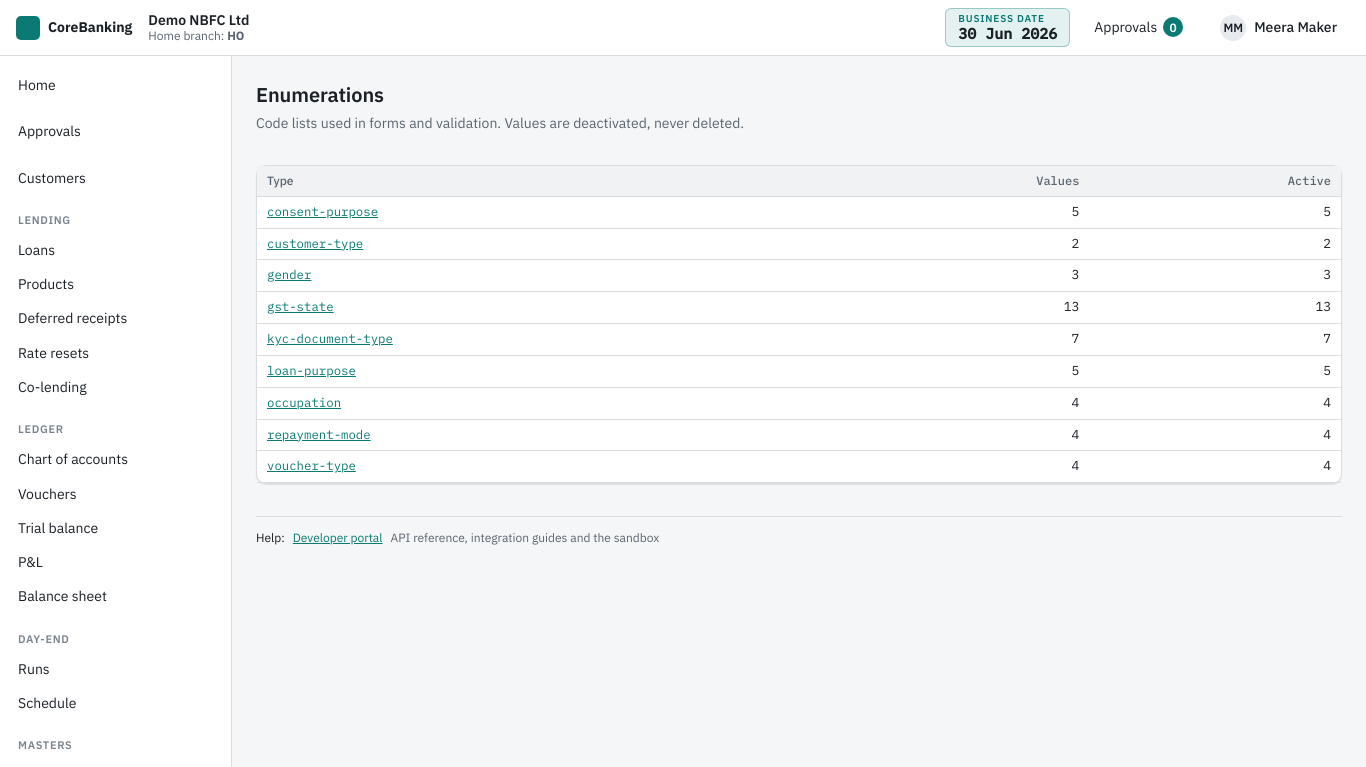
Scenario: system properties and enumerations › deactivates and adds enumeration values (never deletes)
Click the row named "Open enumeration loan-purpose" at (799, 371), box [257,355,1341,387]
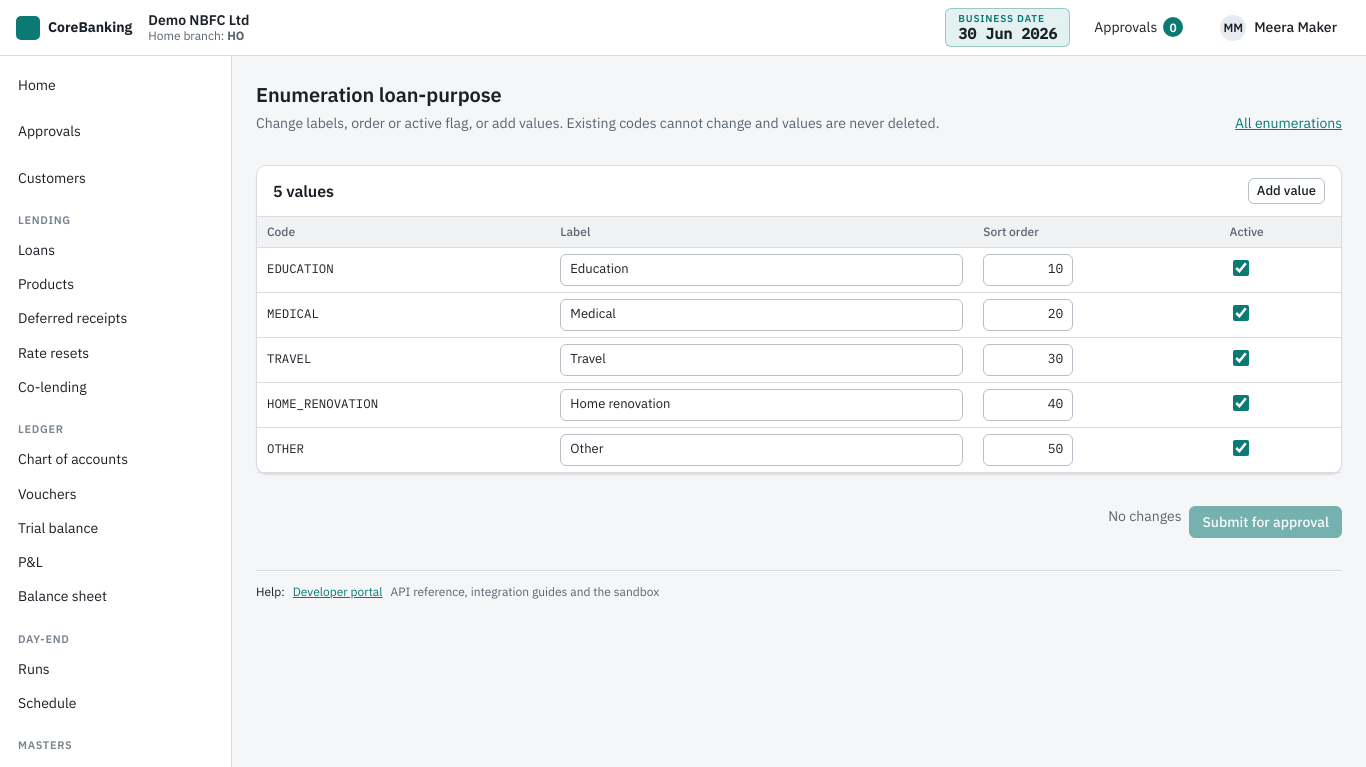
Check: the heading "Enumeration loan-purpose" is shown, box [256,81,502,108]
Check: the button "Submit for approval" is disabled, box [1190,506,1342,538]
Click the checkbox named "Active: TRAVEL" in the row of "TRAVEL" at (1242, 358), box [1234,350,1250,366]
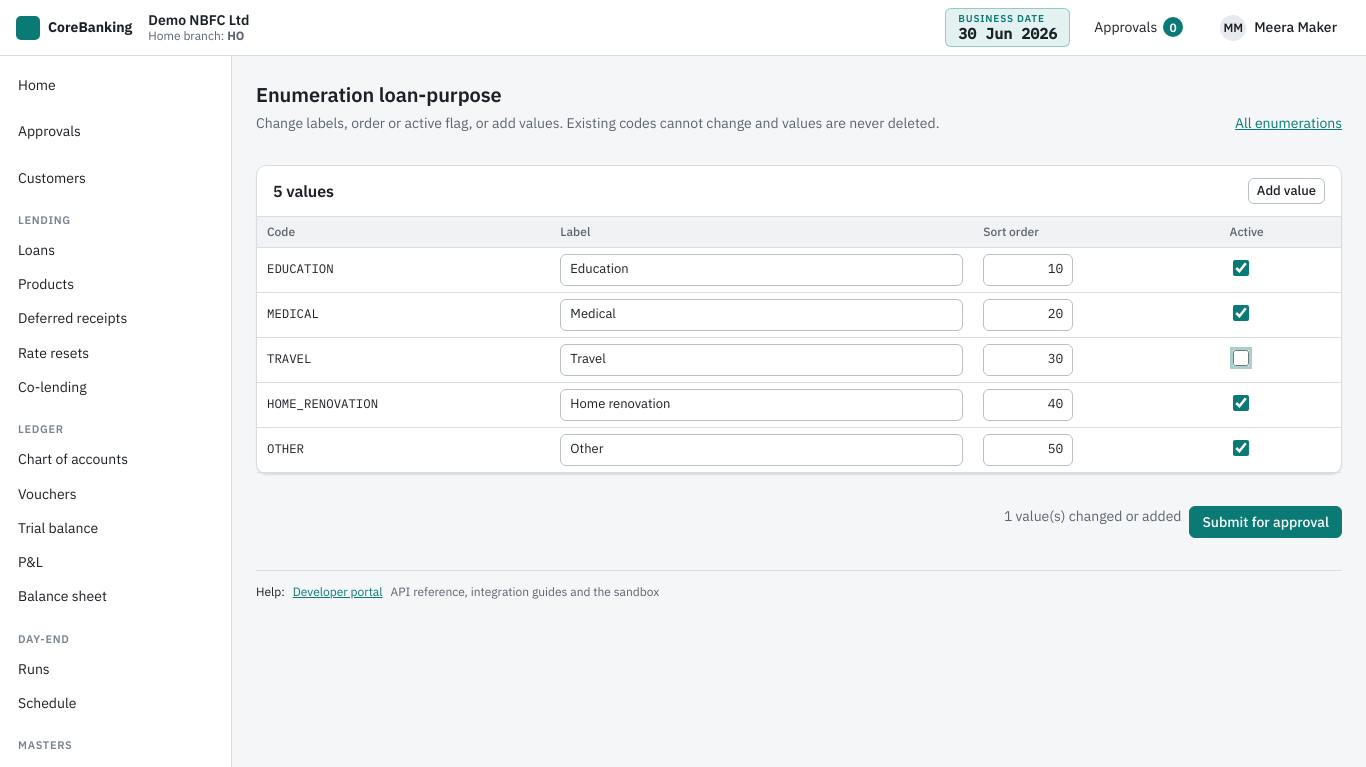
Click the button "Add value" at (1286, 191), box [1248,178,1325,204]
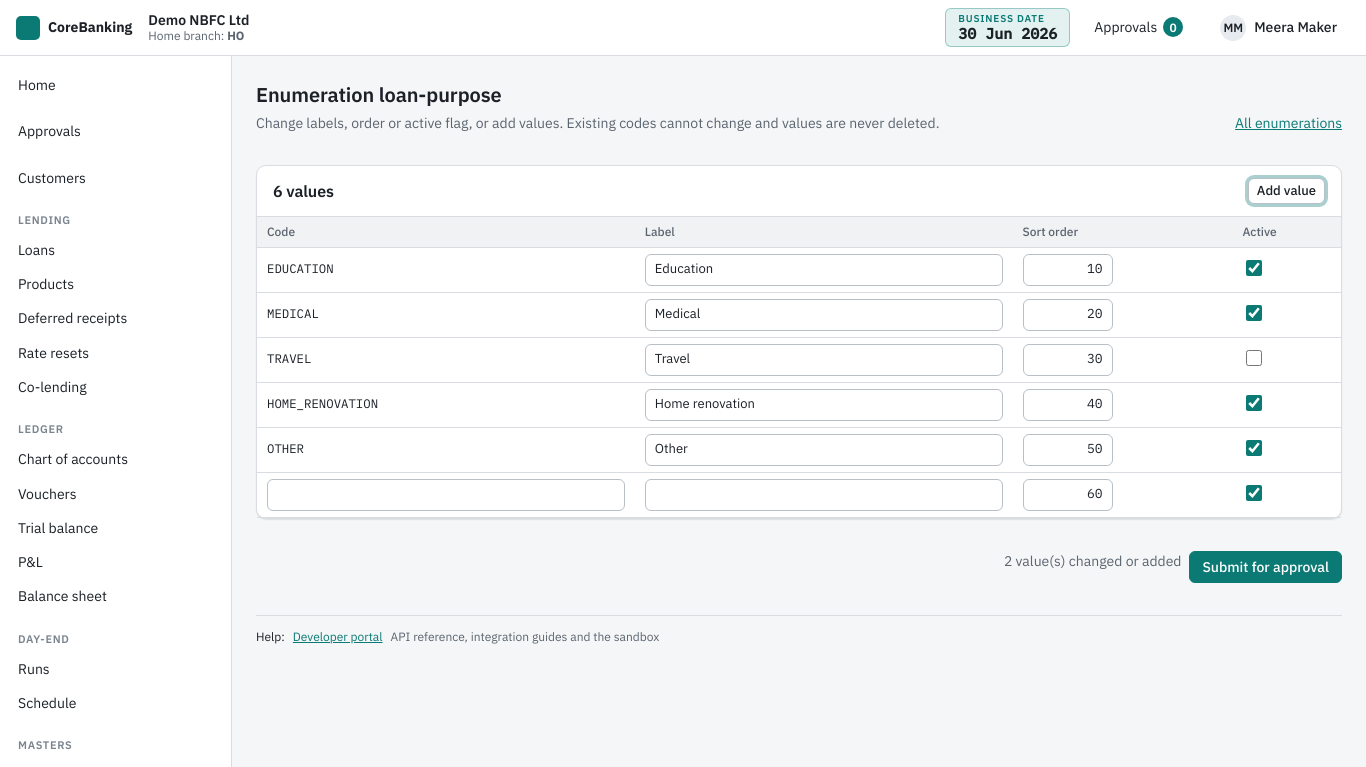
Type "wedding" into the 11th field named "Code of new value 6" at (446, 495), box [267,479,625,511]
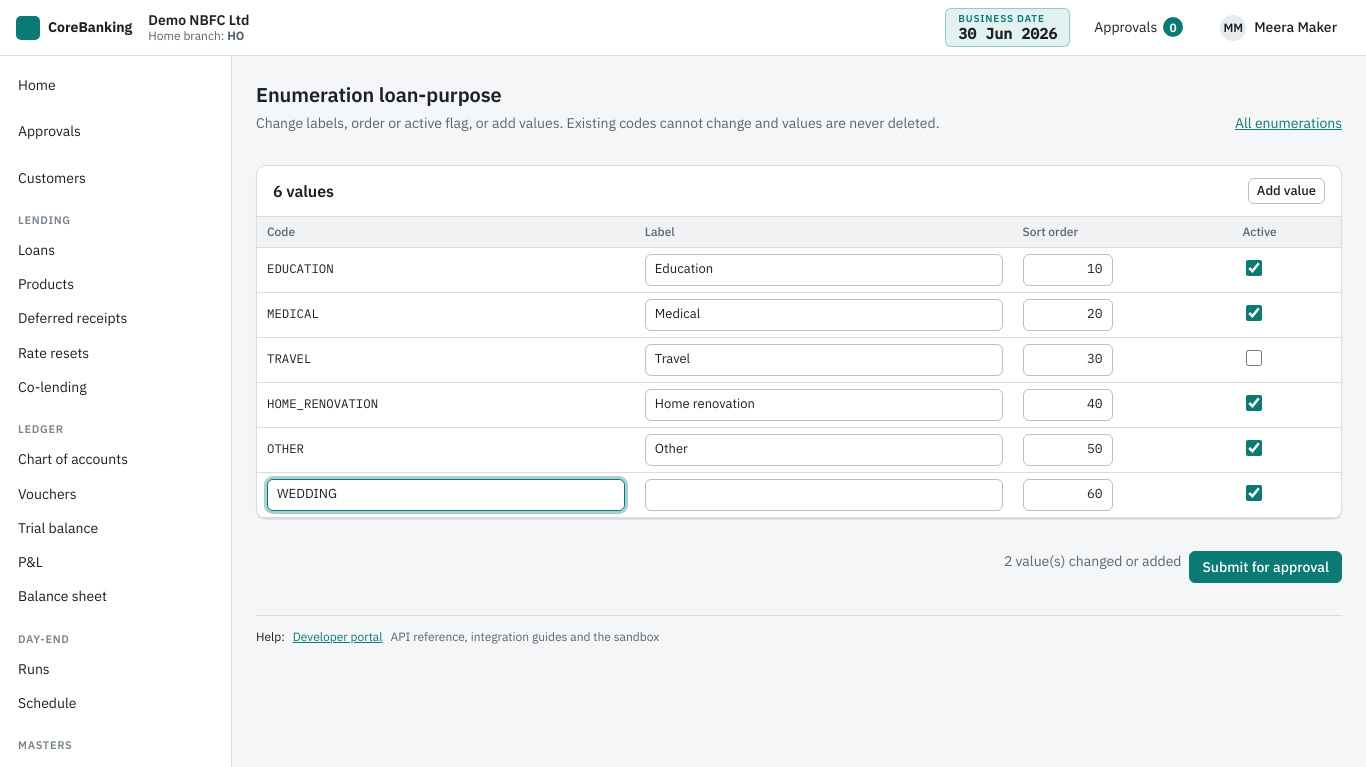
Type "Wedding" into the 12th field named "Label of new value 6" at (824, 495), box [645,479,1003,511]
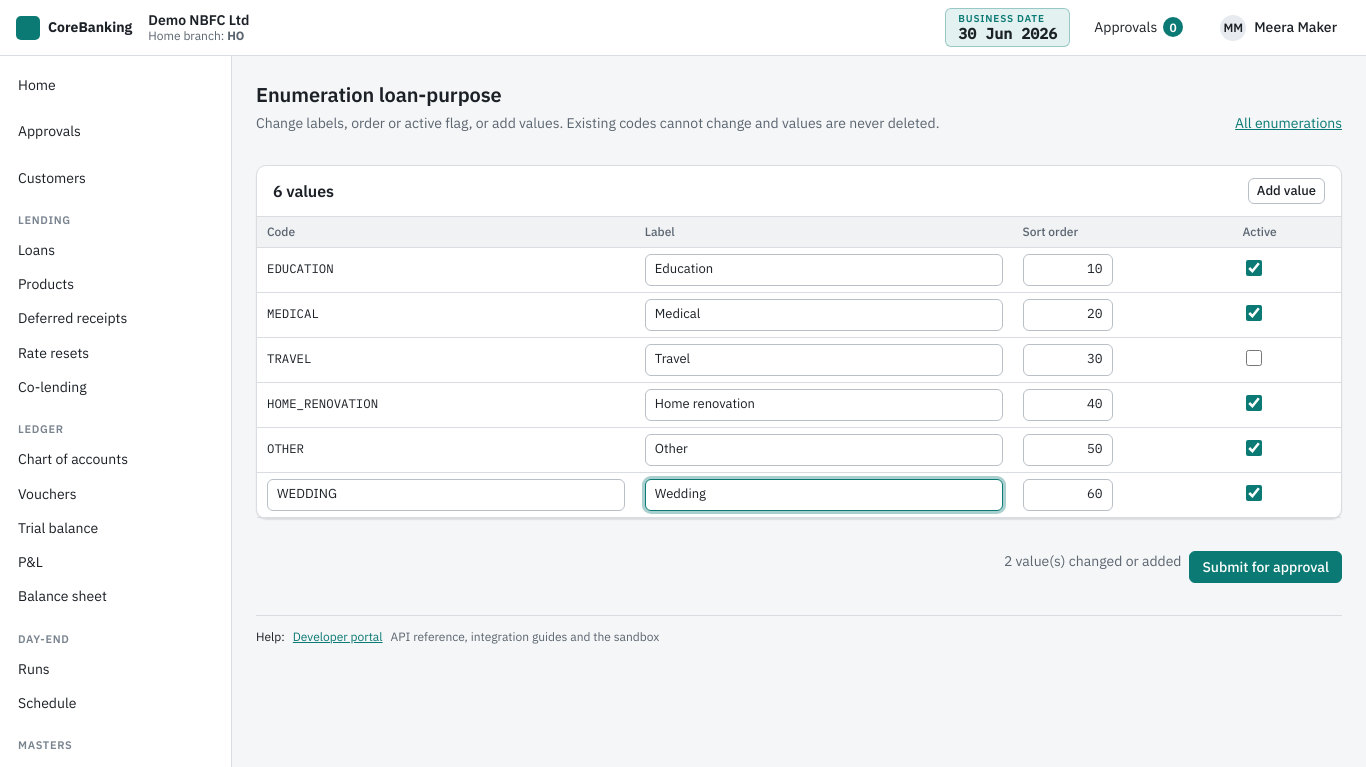
Check: the text "2 value(s) changed or added" is shown, box [1004,552,1181,570]
Click the button "Submit for approval" at (1266, 567), box [1190,551,1342,583]
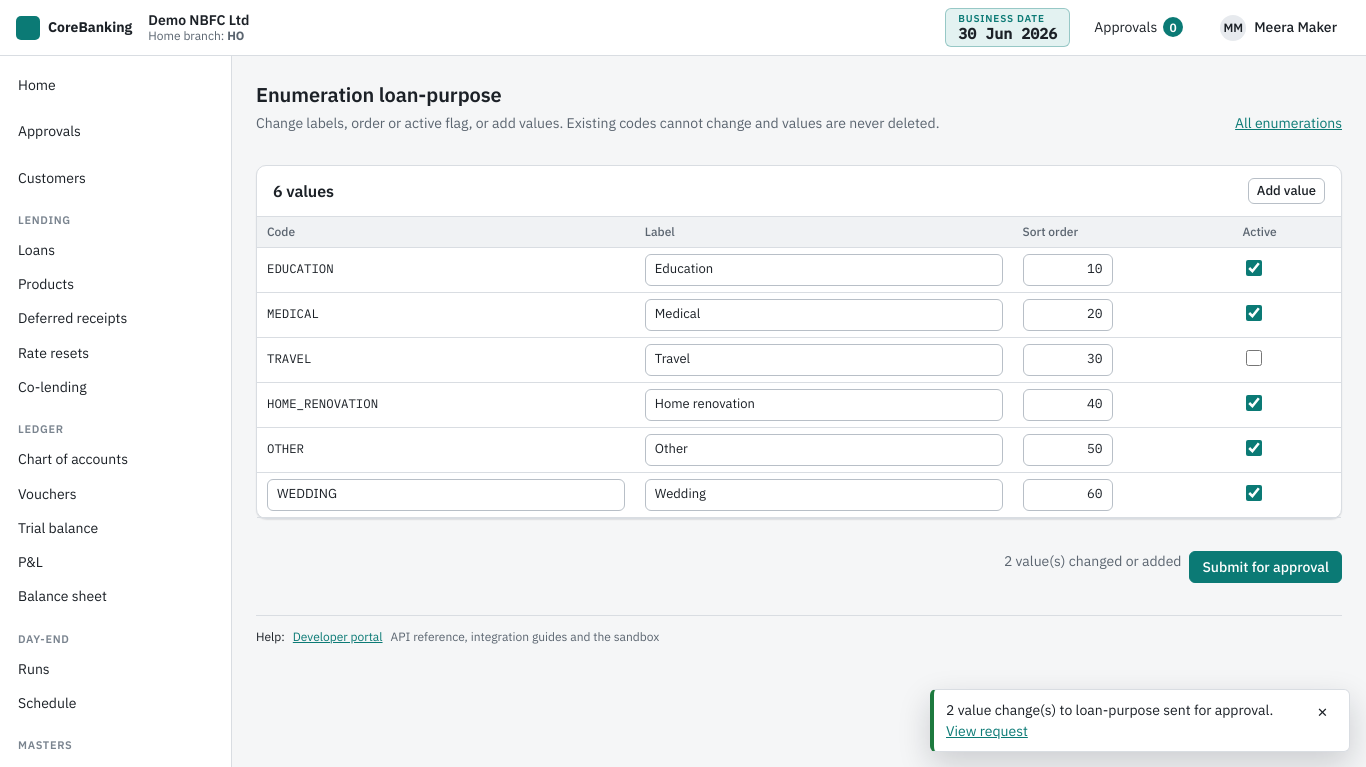
Check: the text "2 value change(s) to loan-purpose sent for approval." is shown, box [946,701,1273,719]
